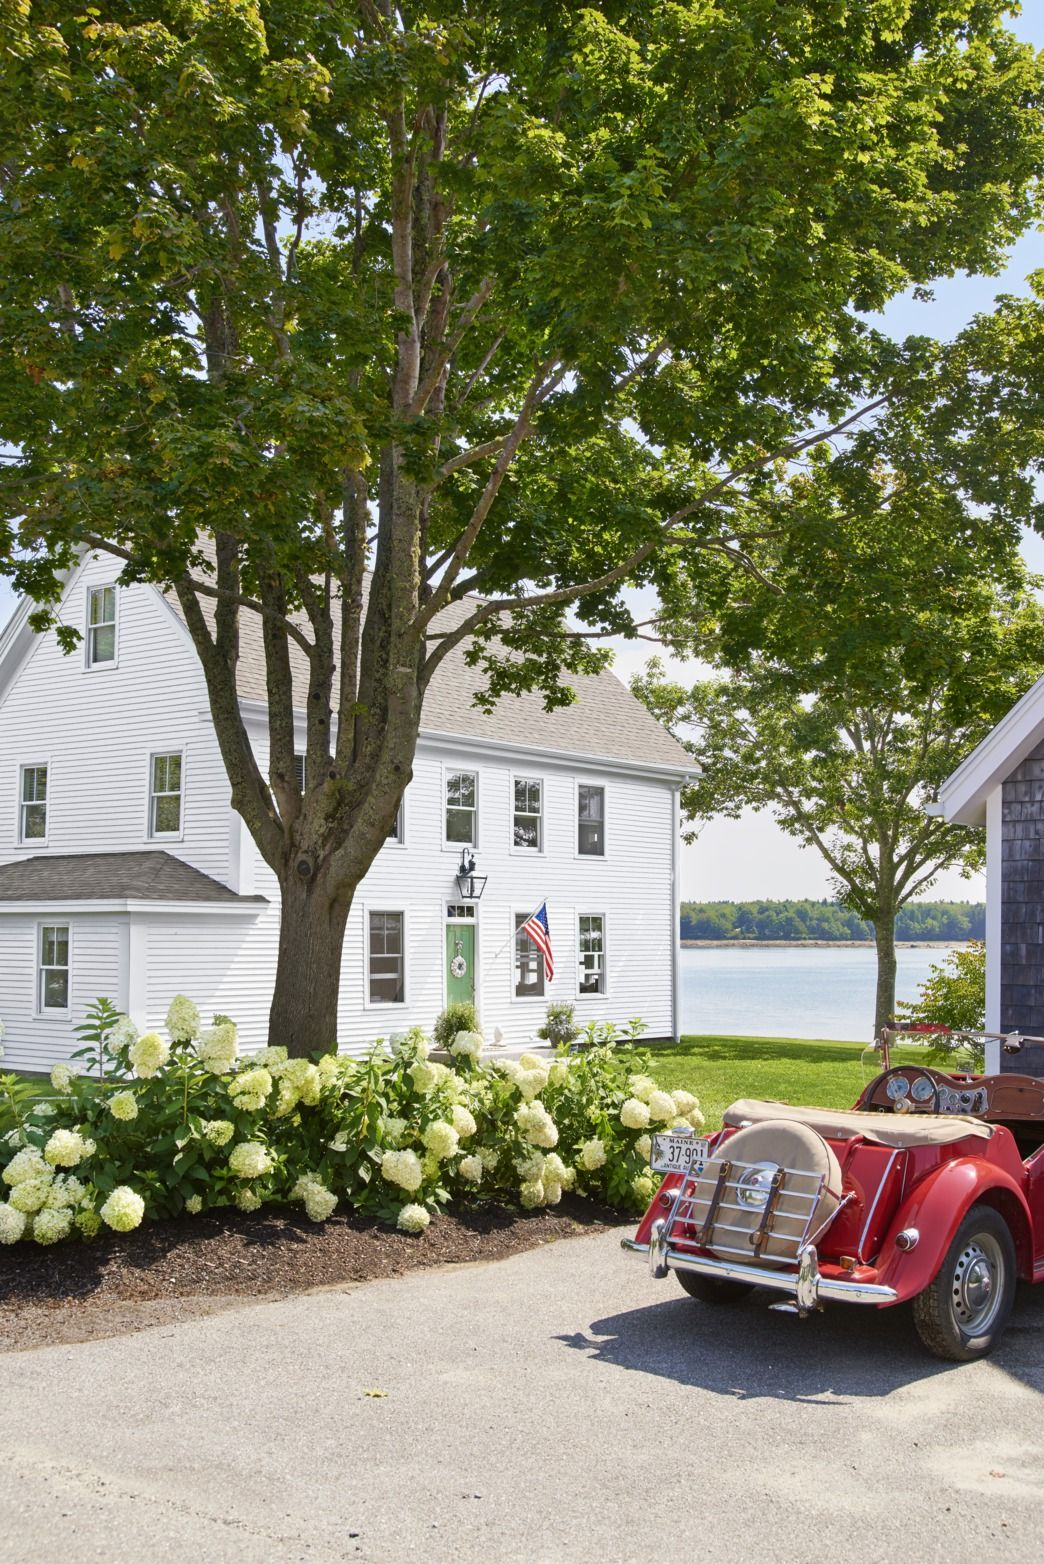tree: (13, 1, 968, 1066), (626, 466, 1042, 1066)
